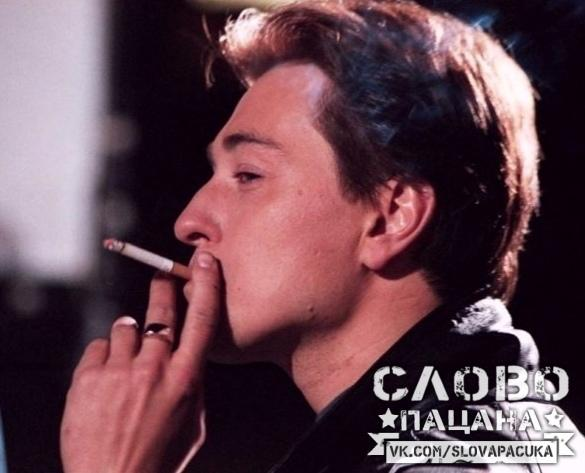cigarette: (102, 237, 192, 280)
